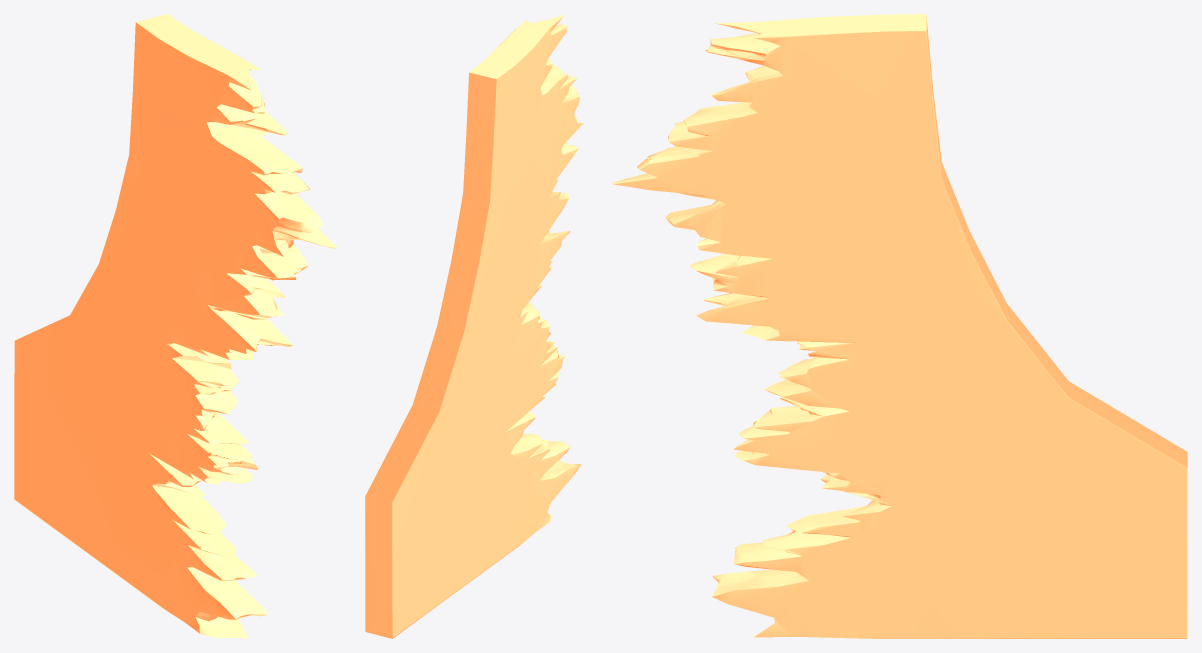
File: SM_Wall_MainDeck02.fbx
3 renders of one model, left to right at view 1: azimuth 30°, elevation 25°; view 2: azimuth 150°, elevation 25°; view 3: azimuth 270°, elevation 25°, orthographic. The views are drawn at different scales.
Parts seen in each view (by area): view 1: SM_Wall_MainDeck02_LOD0; view 2: SM_Wall_MainDeck02_LOD0; view 3: SM_Wall_MainDeck02_LOD0.
Part boxes in pixels (x1,y1,x2,y2): SM_Wall_MainDeck02_LOD0: (14, 14, 336, 638); SM_Wall_MainDeck02_LOD0: (365, 14, 583, 638); SM_Wall_MainDeck02_LOD0: (612, 14, 1187, 638).
Size of the model in its own units: 33.45 by 277 by 323.
